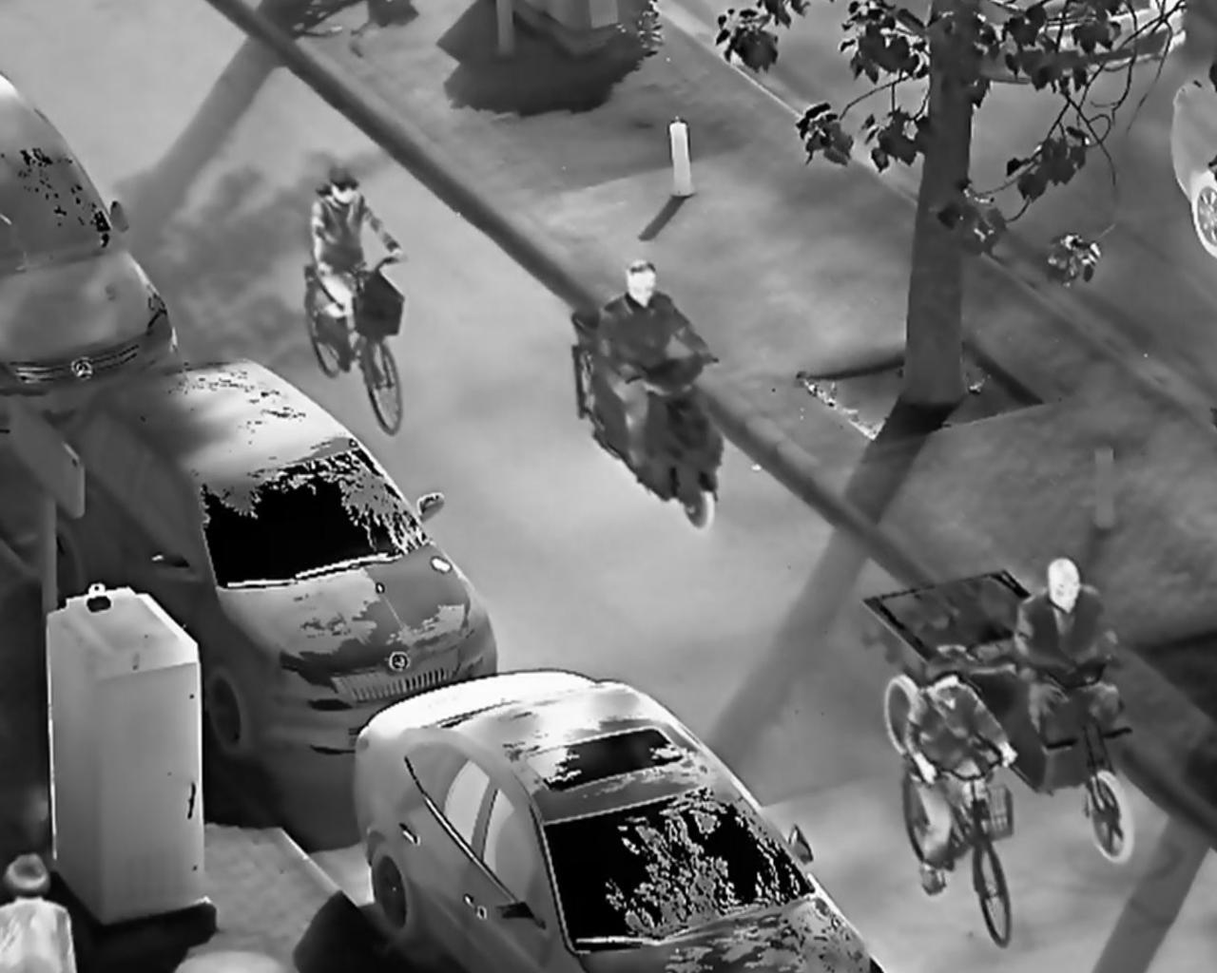person: (901, 656, 1018, 902), (594, 257, 718, 471), (1014, 555, 1130, 743), (303, 163, 413, 360)
